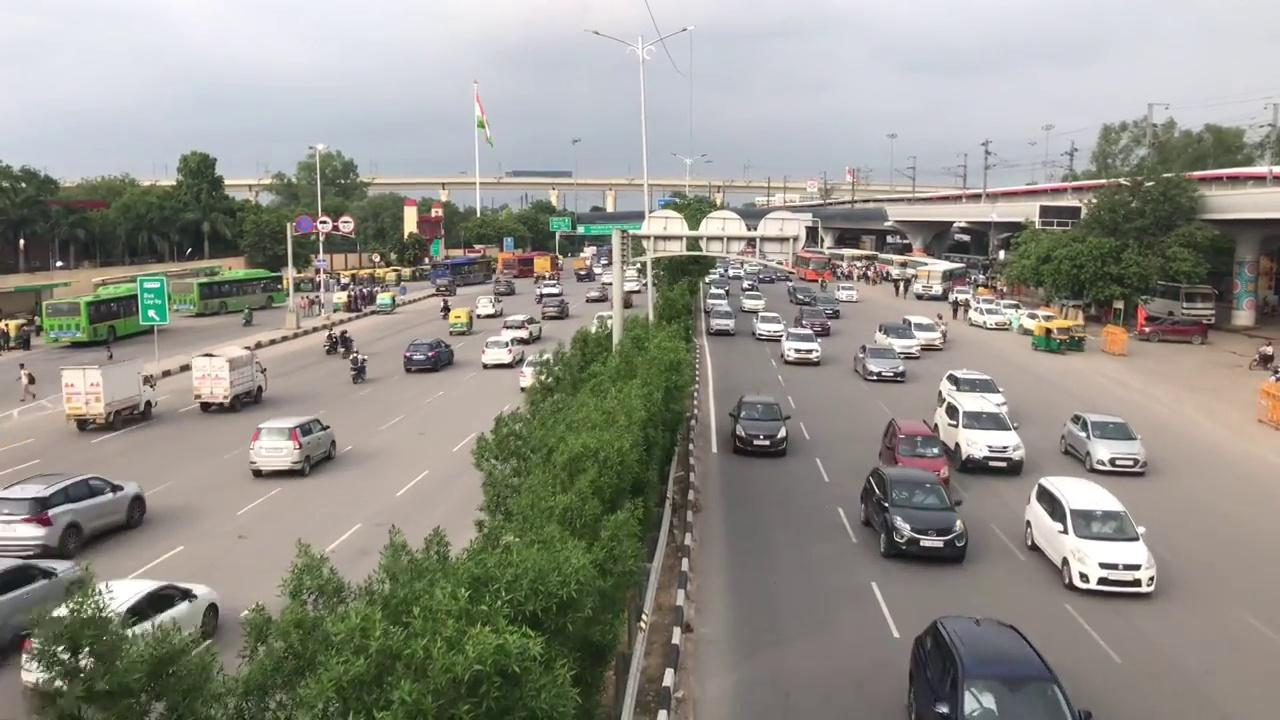Car: (1024, 473, 1156, 594), (858, 464, 969, 563), (935, 392, 1026, 472), (247, 412, 338, 478), (1060, 410, 1148, 474), (881, 412, 955, 486), (730, 392, 791, 456), (855, 339, 904, 385), (403, 334, 455, 372), (779, 326, 822, 366), (480, 335, 528, 369), (901, 313, 943, 350)
Truck: (58, 359, 157, 433), (190, 342, 268, 414)
